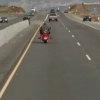Motorcycle: (32, 22, 59, 50)
